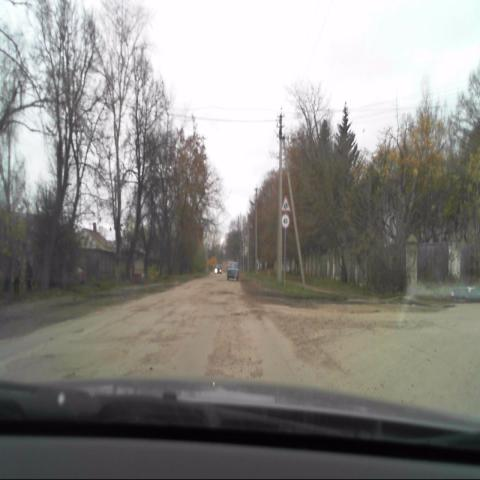1_23: (281, 197, 290, 212)
3_24: (281, 214, 290, 228)
